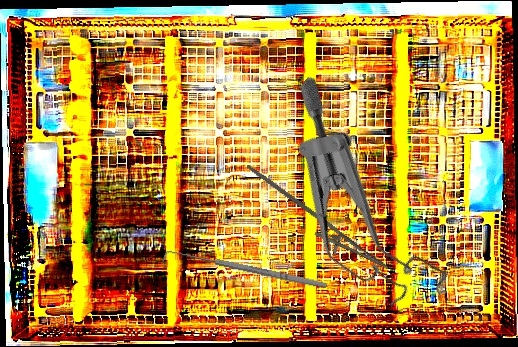Hook Surgical: (162, 245, 328, 297)
Needle Holder: (229, 163, 400, 282)
Speculum: (226, 74, 503, 330)
